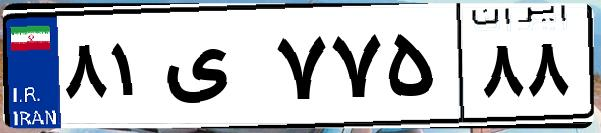1: (110, 28, 158, 98)
5: (385, 28, 445, 110)
7: (270, 28, 330, 110), (330, 28, 385, 110)
8: (57, 26, 110, 100), (475, 38, 525, 113), (525, 38, 570, 115)
ی: (158, 20, 270, 120)
